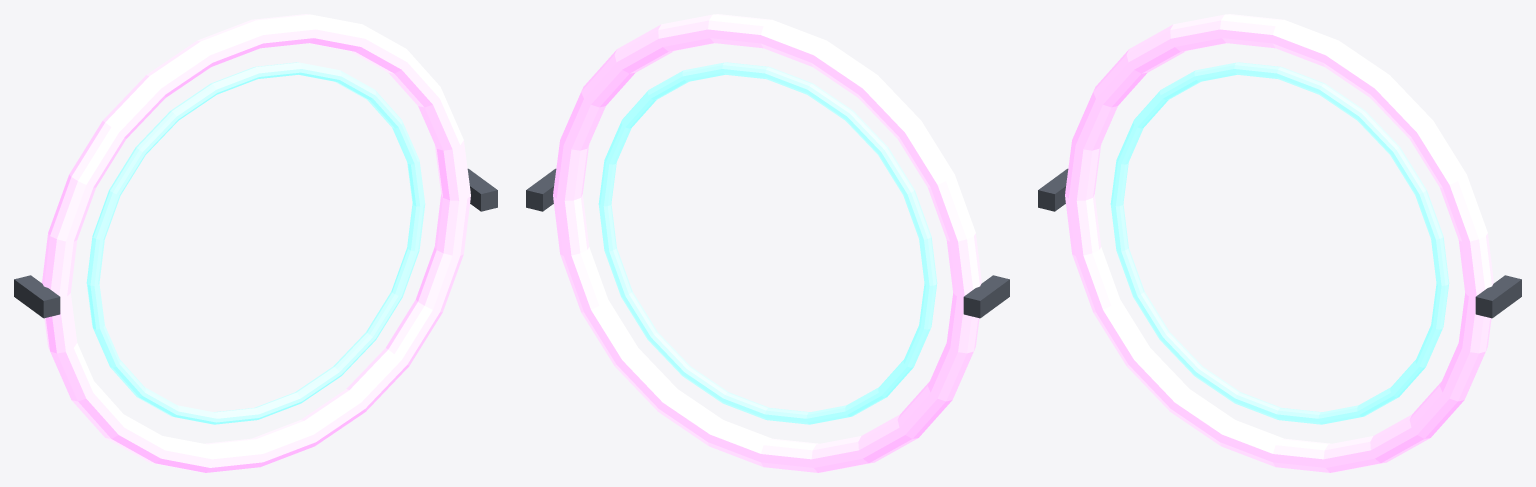
The model's file is interact_acro_ring.glb.
The picture shows the model from 3 angles, left to right: view 1: azimuth 30°, elevation 25°; view 2: azimuth 150°, elevation 25°; view 3: azimuth 330°, elevation 25°; orthographic projection.
Parts seen in each view (by area): view 1: interact_acro_ring; view 2: interact_acro_ring; view 3: interact_acro_ring.
Boxes of the visible parts, x1,y1,x2,y2 form: interact_acro_ring: (14,14,497,472); interact_acro_ring: (526,14,1009,472); interact_acro_ring: (1038,14,1521,472).
Size of the model in its own units: 4.88 by 4.58 by 0.55.
